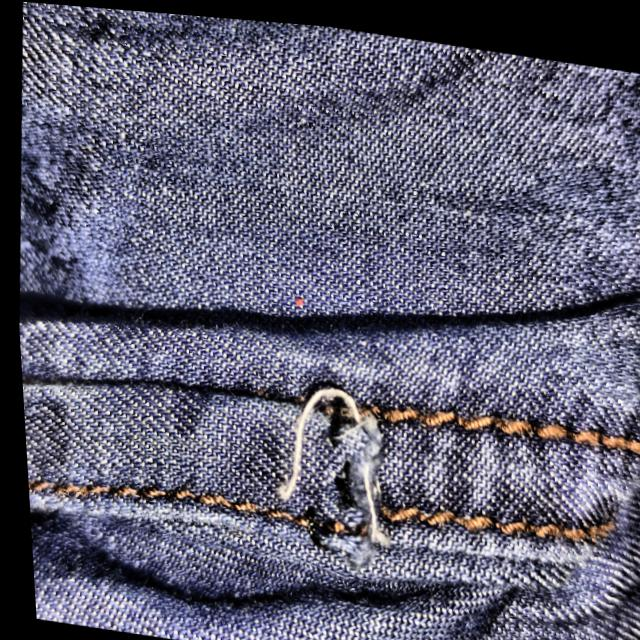Stitch: (241, 320, 409, 615)
